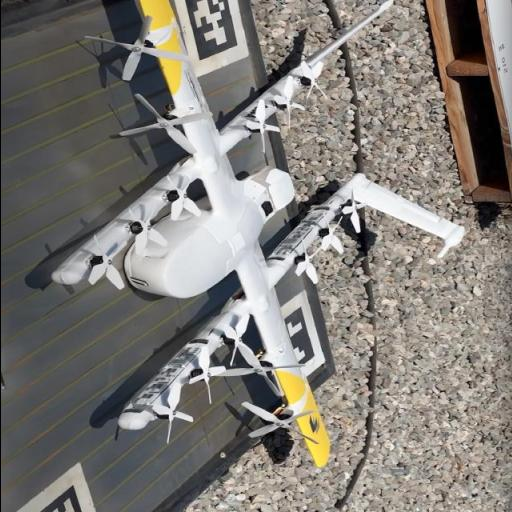uav: (48, 0, 465, 471)
